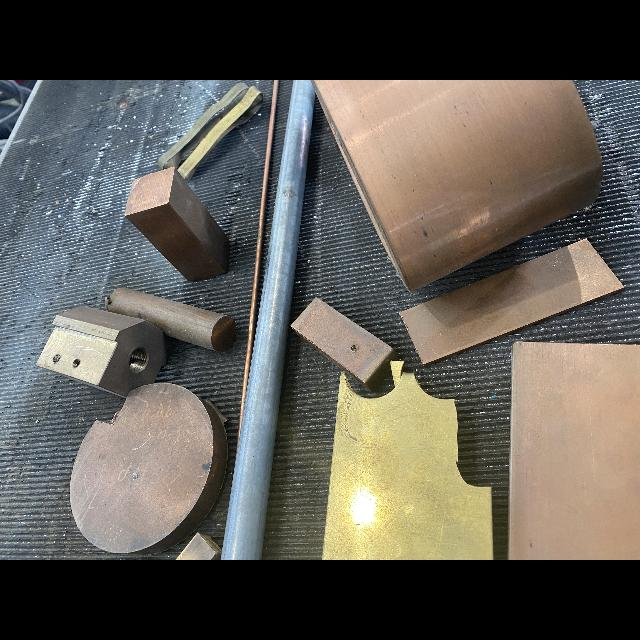Brass: (322, 361, 493, 560), (37, 307, 166, 397), (178, 86, 262, 181), (158, 83, 248, 169), (176, 533, 221, 560)
Copper: (313, 80, 602, 290), (508, 342, 640, 559), (400, 239, 623, 364), (70, 383, 227, 554), (240, 80, 278, 425), (125, 167, 229, 281), (292, 298, 397, 391), (105, 288, 236, 351)
Galvanized Steel: (221, 80, 315, 560)
